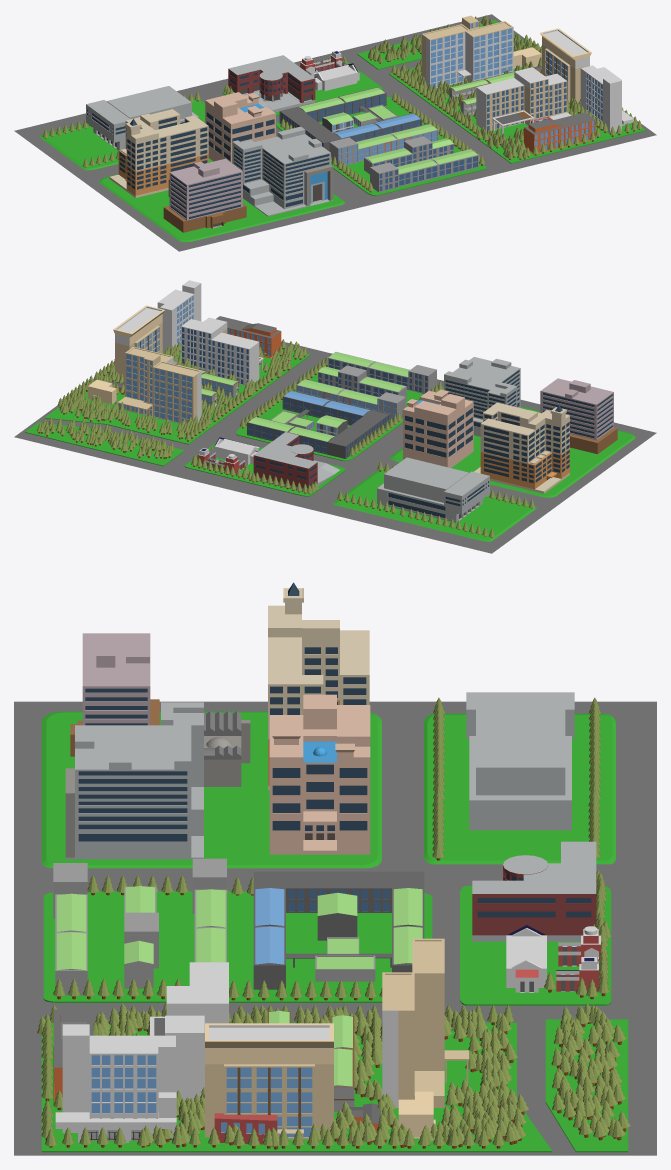
Rendered from NCHU-1.glb.
3 views of the same model, one above another, from view 1: azimuth 30°, elevation 25°; view 2: azimuth 150°, elevation 25°; view 3: azimuth 270°, elevation 25° (orthographic). The views are drawn at different scales.
Visible parts, largest first — view 1: Plane, 應科大樓, 化材大樓, 國農中心, 生科大樓, 食品暨生物科技大樓, 理工大樓主體, 圓廳, 電機大樓, 惠蓀堂主體, 區塊B, 森林館 (+18 smaller); view 2: Plane, 化材大樓, 惠蓀堂主體, 國農中心, 電機大樓, 理工大樓主體, 食品暨生物科技大樓, 區塊E, 生科大樓, 區塊A, 應科大樓, 圓廳 (+17 smaller); view 3: Plane, 應科大樓, 區塊D, 區塊B, 電機大樓, 惠蓀堂主體, 防疫檢疫大樓, 區塊A, 區塊E, 食安大樓, 理工大樓主體, 圓廳 (+23 smaller).
Part boxes in pixels (<box>): Plane: <box>14,14,656,251</box>; 應科大樓: <box>232,126,333,216</box>; 化材大樓: <box>109,109,208,197</box>; 國農中心: <box>421,15,513,88</box>; 生科大樓: <box>163,158,246,232</box>; 食品暨生物科技大樓: <box>476,67,571,136</box>; 理工大樓主體: <box>279,87,421,151</box>; 圓廳: <box>228,55,315,112</box>; 電機大樓: <box>205,92,275,162</box>; 惠蓀堂主體: <box>86,86,198,150</box>; 區塊B: <box>99,158,344,242</box>; 森林館: <box>370,149,478,192</box>; Plane: <box>14,341,656,553</box>; 化材大樓: <box>474,402,569,493</box>; 惠蓀堂主體: <box>377,457,489,522</box>; 國農中心: <box>118,347,201,423</box>; 電機大樓: <box>403,389,473,467</box>; 理工大樓主體: <box>247,390,389,458</box>; 食品暨生物科技大樓: <box>181,317,263,385</box>; 區塊E: <box>25,348,310,466</box>; 生科大樓: <box>540,378,617,454</box>; 區塊A: <box>332,469,536,541</box>; 應科大樓: <box>444,357,520,436</box>; 圓廳: <box>253,432,339,491</box>; Plane: <box>14,701,656,1155</box>; 應科大樓: <box>65,702,203,859</box>; 區塊D: <box>43,891,432,1002</box>; 區塊B: <box>41,711,381,868</box>; 電機大樓: <box>269,694,370,854</box>; 惠蓀堂主體: <box>466,692,574,830</box>; 防疫檢疫大樓: <box>205,1023,333,1144</box>; 區塊A: <box>424,713,615,864</box>; 區塊E: <box>41,1019,628,1152</box>; 食安大樓: <box>55,1024,176,1142</box>; 理工大樓主體: <box>253,871,424,989</box>; 圓廳: <box>472,841,596,941</box>.
Bounding box in the file's own units: 3.99 × 0.5939 × 2.39.
35 materials, 1 textured.
